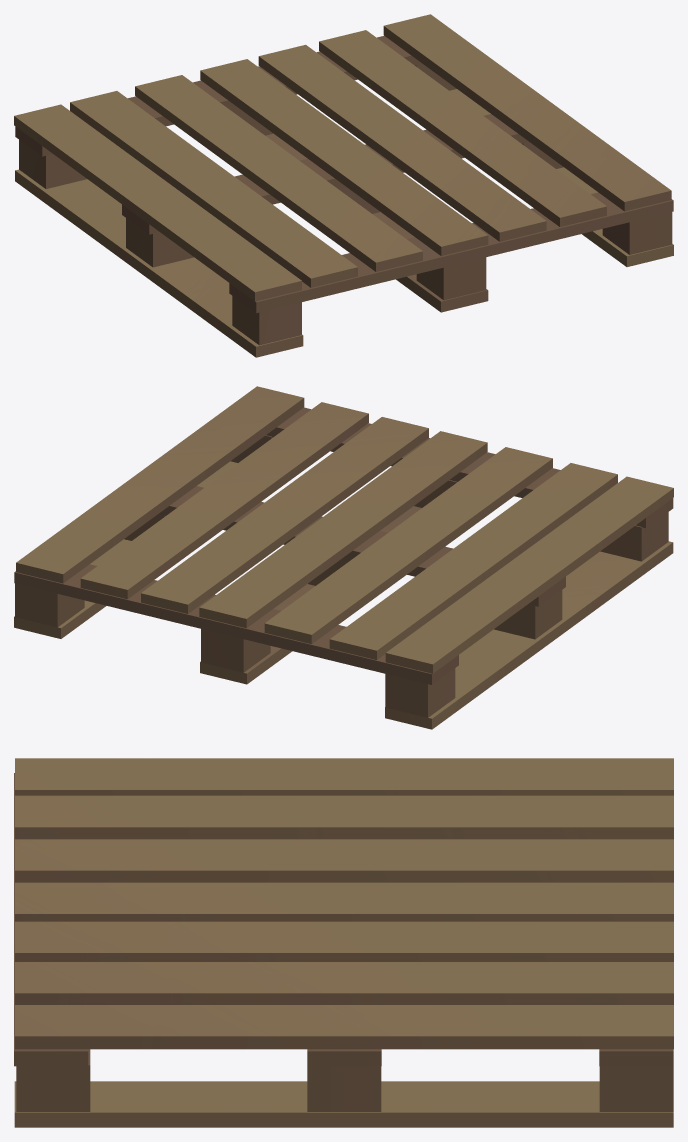
File: paddon.fbx
3 views of the same model, one above another, from view 1: azimuth 30°, elevation 25°; view 2: azimuth 150°, elevation 25°; view 3: azimuth 270°, elevation 25° (orthographic). The views are drawn at different scales.
Visible parts, largest first — view 1: Cube.277; view 2: Cube.277; view 3: Cube.277.
Boxes of the visible parts, left/top/right/bottom form: Cube.277: left=14, top=14, right=673, bottom=357; Cube.277: left=14, top=386, right=673, bottom=729; Cube.277: left=14, top=758, right=673, bottom=1127.
Size of the model in its own units: 3.31 by 0.4958 by 3.31.
